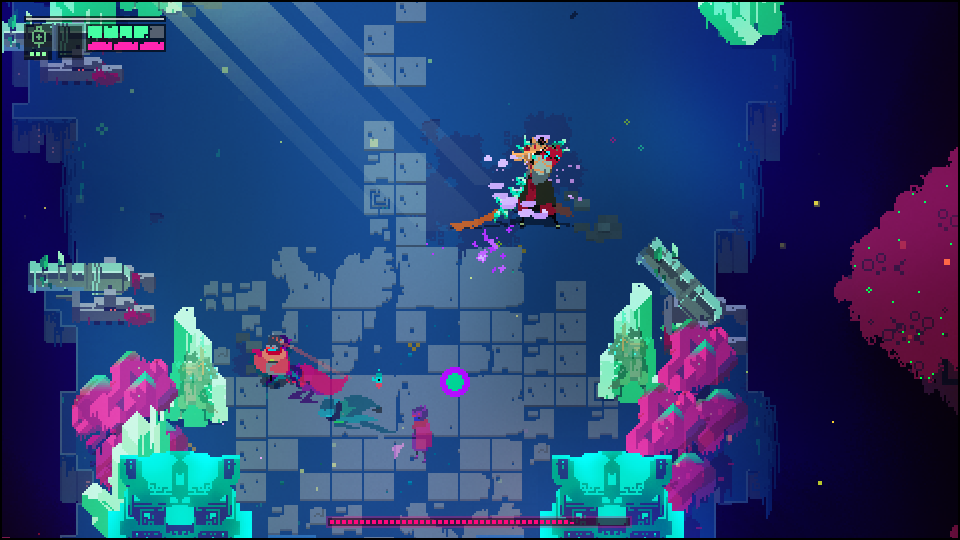hanged_man: (484, 130, 581, 227)
hanged_shot: (438, 366, 474, 398)
player: (253, 340, 291, 387)
